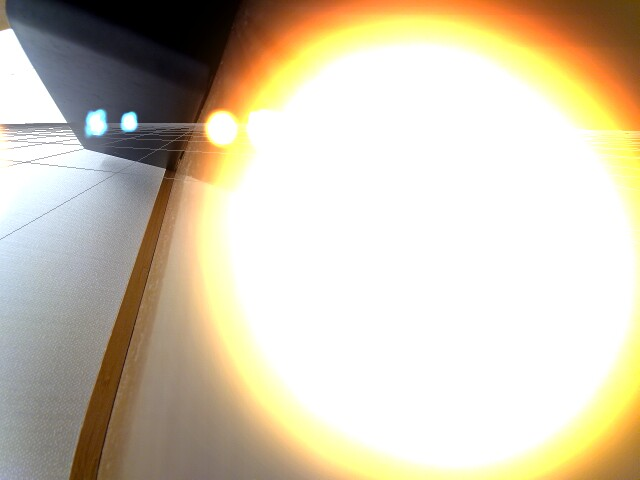fire: (198, 21, 635, 472), (199, 104, 241, 146)
